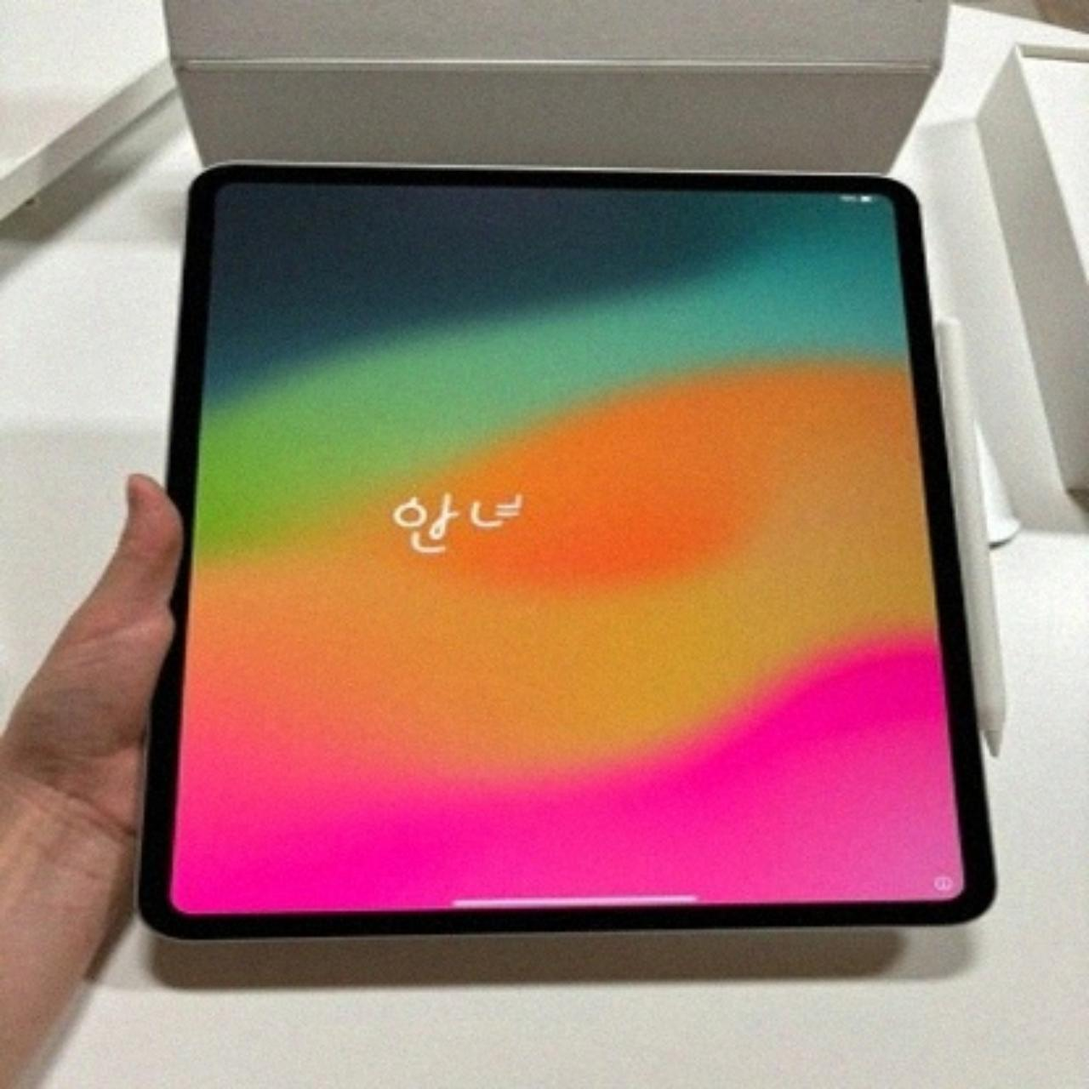Tablet_PC: (128, 162, 1013, 971)
